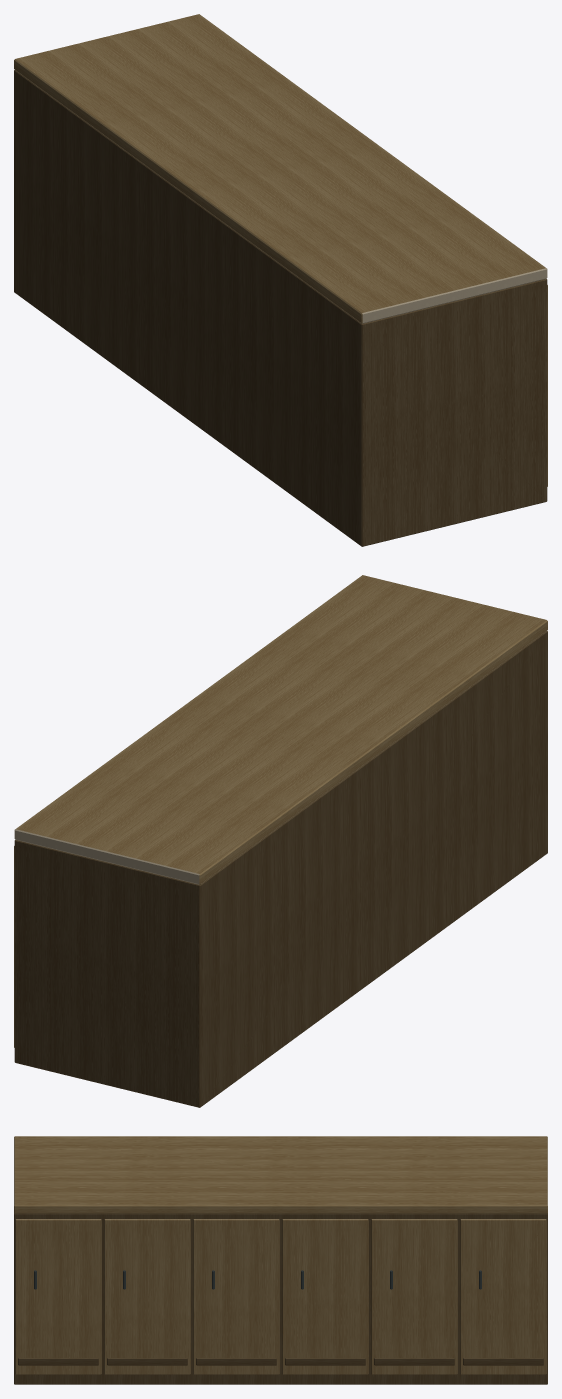
3 renders of one model, top to bottom at view 1: azimuth 30°, elevation 25°; view 2: azimuth 150°, elevation 25°; view 3: azimuth 270°, elevation 25°, orthographic. The views are drawn at different scales.
Visible parts, largest first — view 1: Mesh_dark, Mesh_warm, Mesh_endgrain; view 2: Mesh_dark, Mesh_warm, Mesh_endgrain; view 3: Mesh_warm, Mesh_dark, Mesh_endgrain, Mesh_iron.
Boxes of the visible parts, x1,y1,x2,y2 form: Mesh_dark: (14, 70, 547, 546); Mesh_warm: (14, 14, 547, 486); Mesh_endgrain: (18, 72, 546, 323); Mesh_dark: (14, 631, 547, 1107); Mesh_warm: (14, 575, 547, 1047); Mesh_endgrain: (15, 633, 543, 884); Mesh_warm: (14, 1136, 547, 1374); Mesh_dark: (14, 1213, 547, 1384); Mesh_endgrain: (14, 1137, 547, 1219); Mesh_iron: (34, 1270, 481, 1289).
Size of the model in its own units: 1.02 by 1.2 by 3.24.
4 materials, 3 textured.
